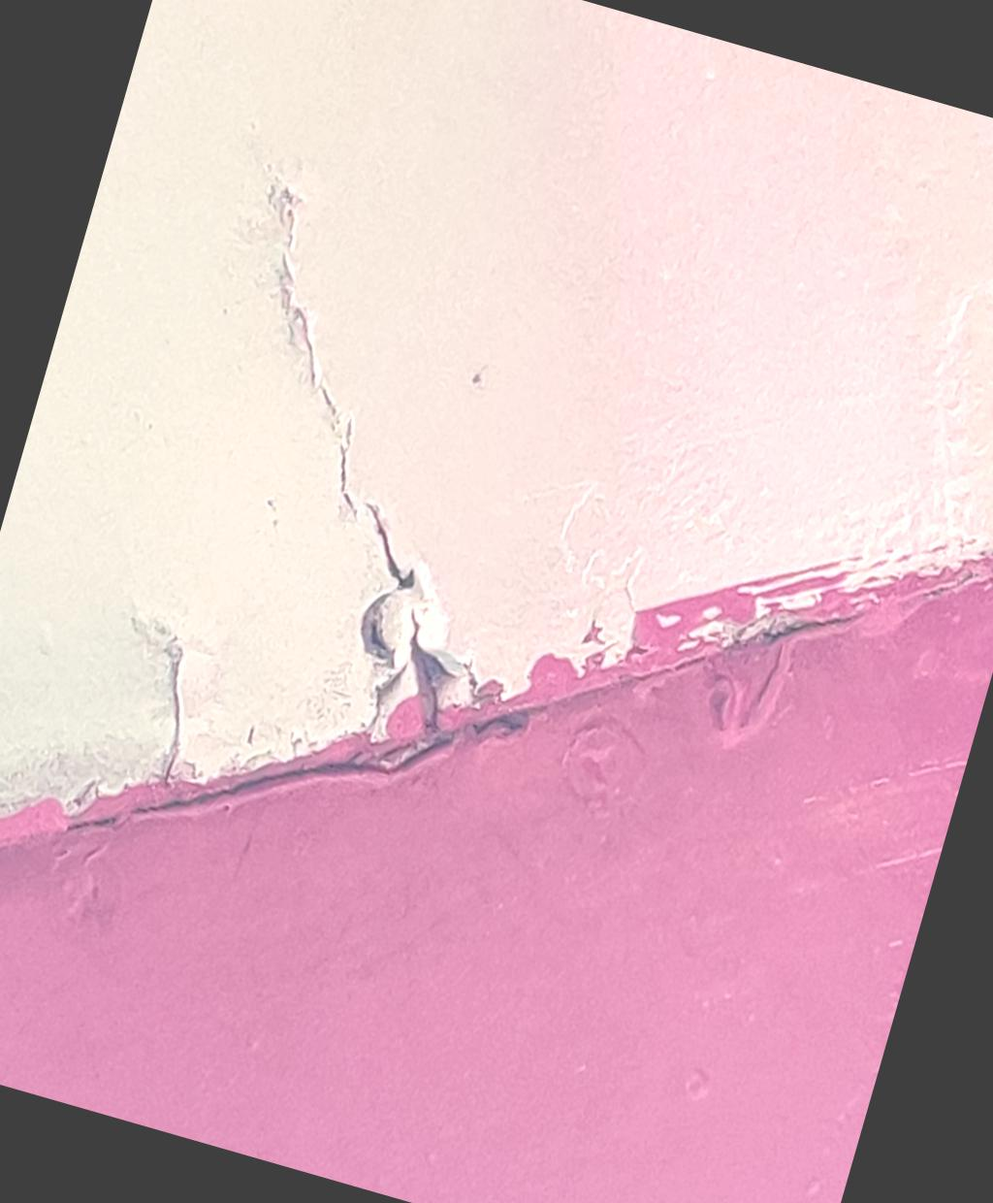crack: (101, 134, 647, 807), (91, 598, 265, 824)
